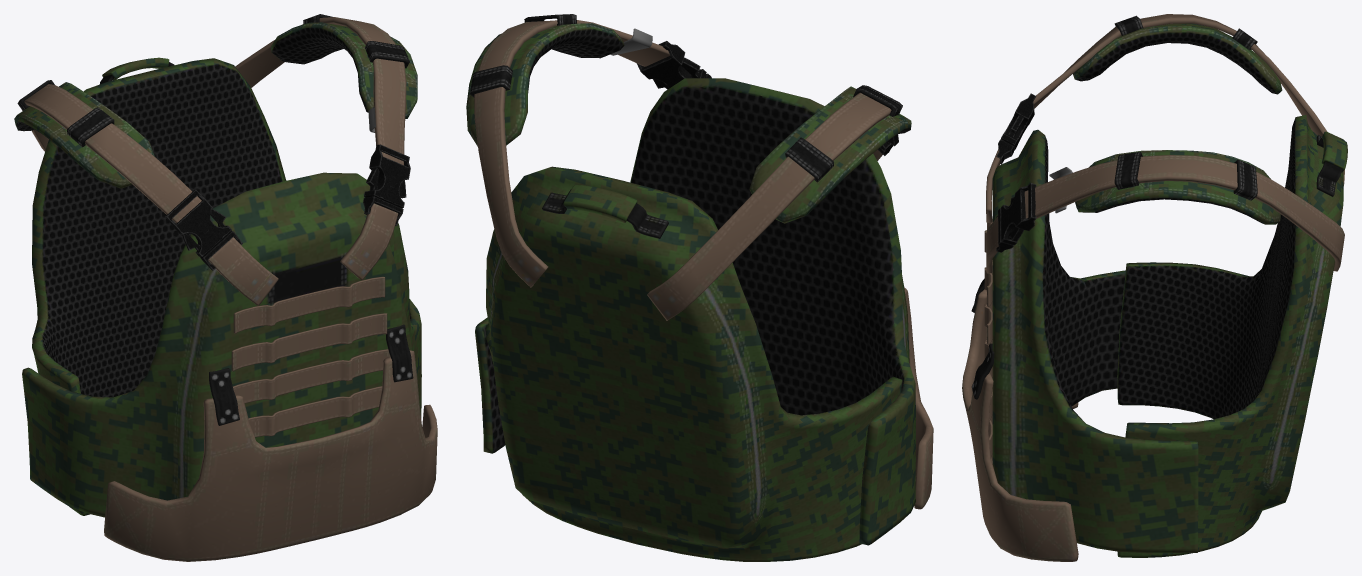
The model's file is armor_onli.fbx.
3 renders of one model, left to right at view 1: azimuth 30°, elevation 25°; view 2: azimuth 150°, elevation 25°; view 3: azimuth 270°, elevation 25°, orthographic. The views are drawn at different scales.
Parts seen in each view (by area): view 1: armor_onli; view 2: armor_onli; view 3: armor_onli.
Boxes of the visible parts, x1,y1,x2,y2 form: armor_onli: (14, 14, 437, 561); armor_onli: (466, 14, 933, 561); armor_onli: (962, 14, 1347, 561).
Size of the model in its own units: 0.2766 by 0.3023 by 0.2539.
